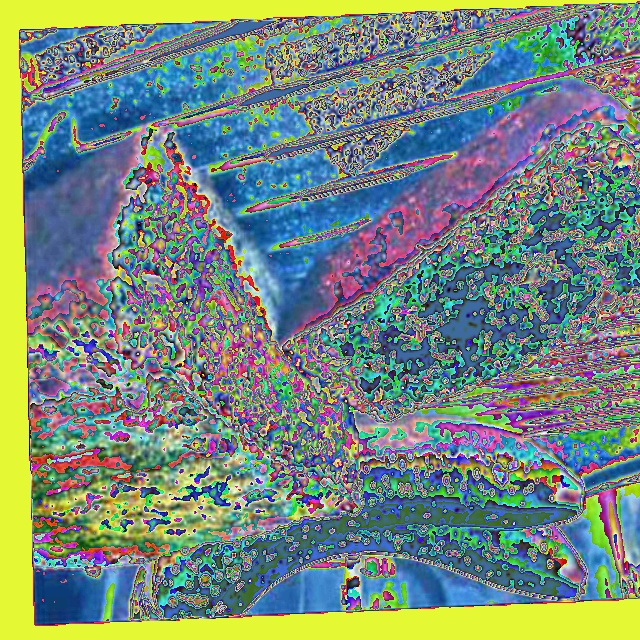background: (24, 84, 639, 620)
